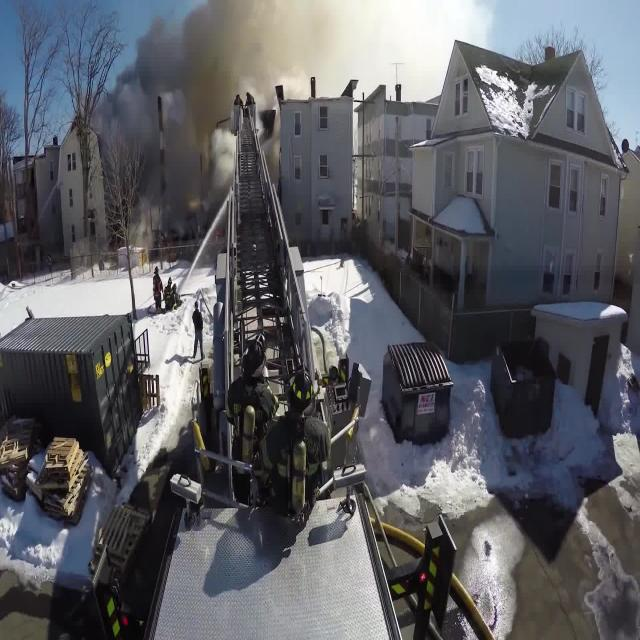Smoke: (83, 0, 330, 260)
